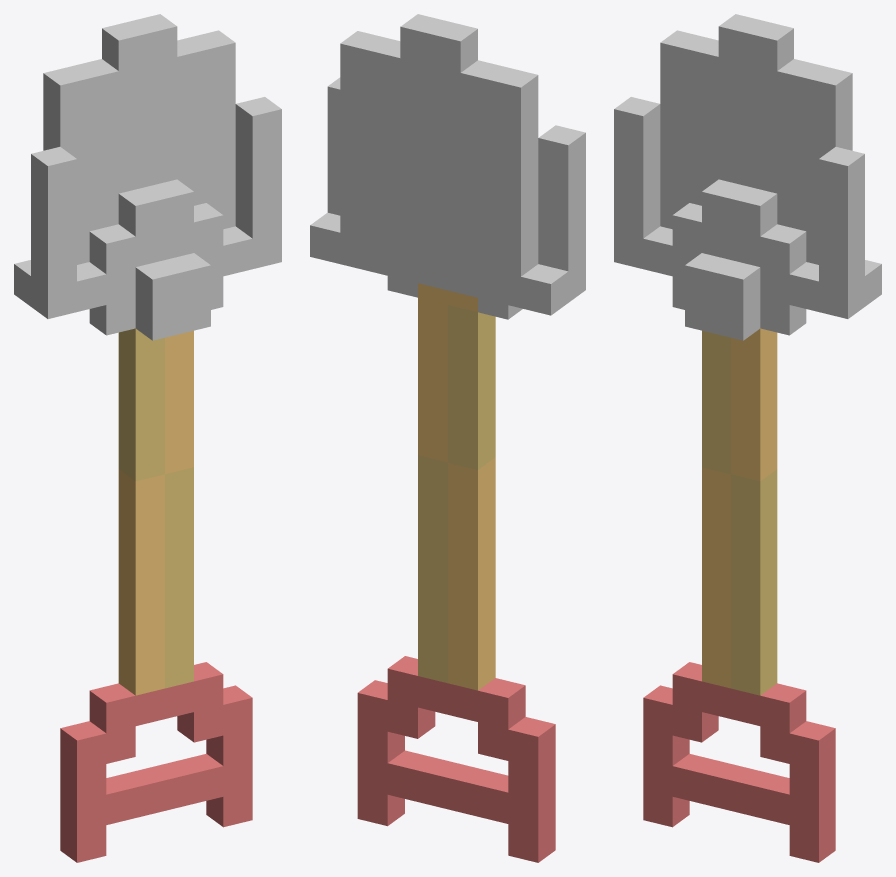
The model's file is Pala.fbx.
The picture shows the model from 3 angles, left to right: view 1: azimuth 30°, elevation 25°; view 2: azimuth 150°, elevation 25°; view 3: azimuth 330°, elevation 25°; orthographic projection. The views are drawn at different scales.
Visible parts, largest first — view 1: pala_8x26x3; view 2: pala_8x26x3; view 3: pala_8x26x3.
Part boxes in pixels (x1,y1,x2,y2): pala_8x26x3: (14, 14, 281, 862); pala_8x26x3: (310, 14, 585, 862); pala_8x26x3: (614, 14, 881, 862).
Bounding box in the file's own units: 320 × 1040 × 120.
